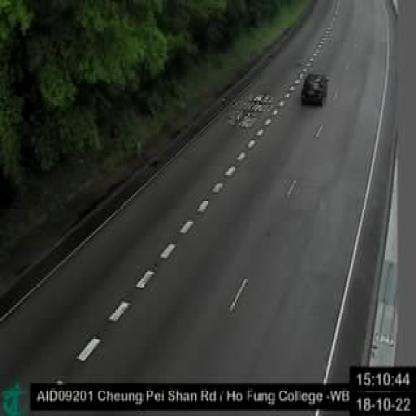Car: (300, 73, 329, 109)
